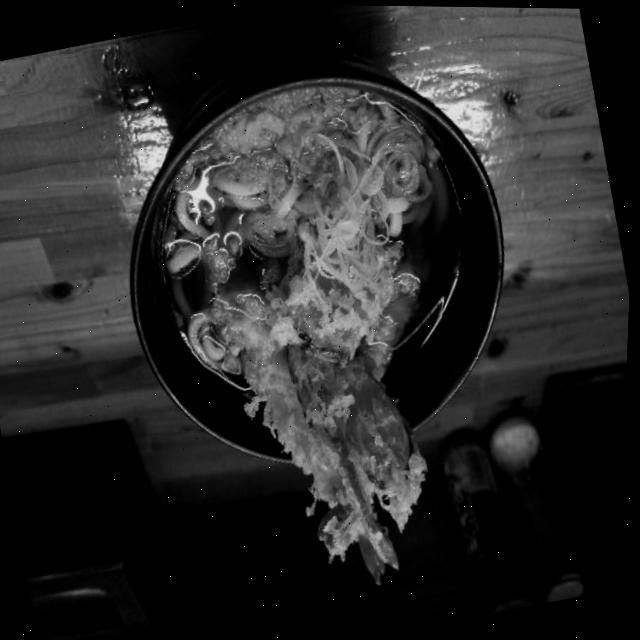面条主食: (113, 50, 534, 609)
